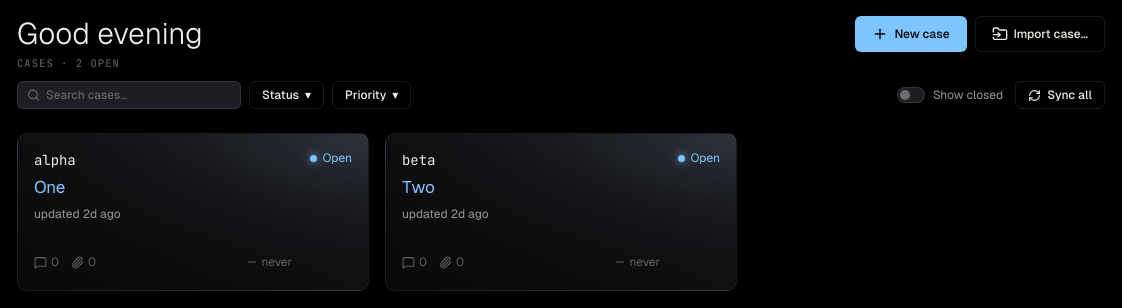
Test: CaseDashboard triage › filters cards by slug, title and jira key
This screenshot has width=1122, height=308.
In the field with placeholder "Search cases…": (129, 95) [17,81,241,109], type "PROJ-9"
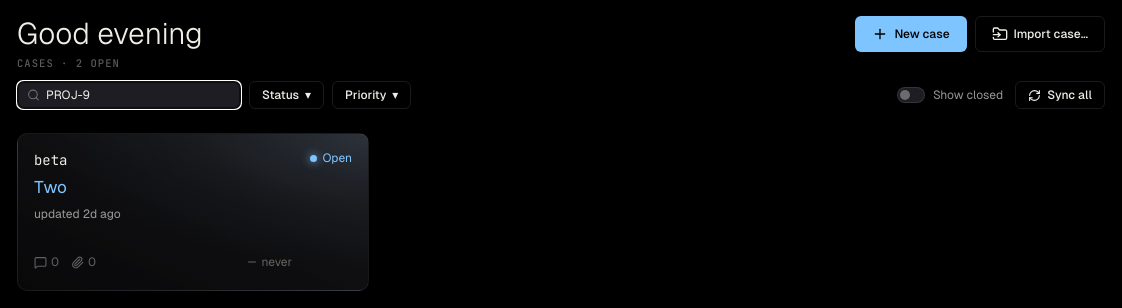
Expected: the text "beta" is shown, [34,150,67,170]
Now the text "alpha" is gone
